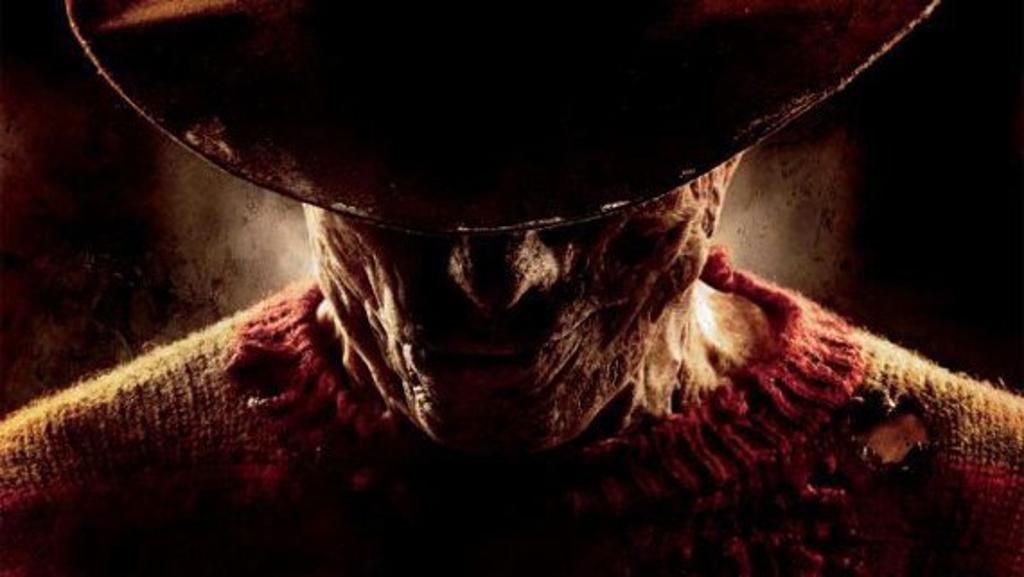face: (324, 26, 678, 454)
